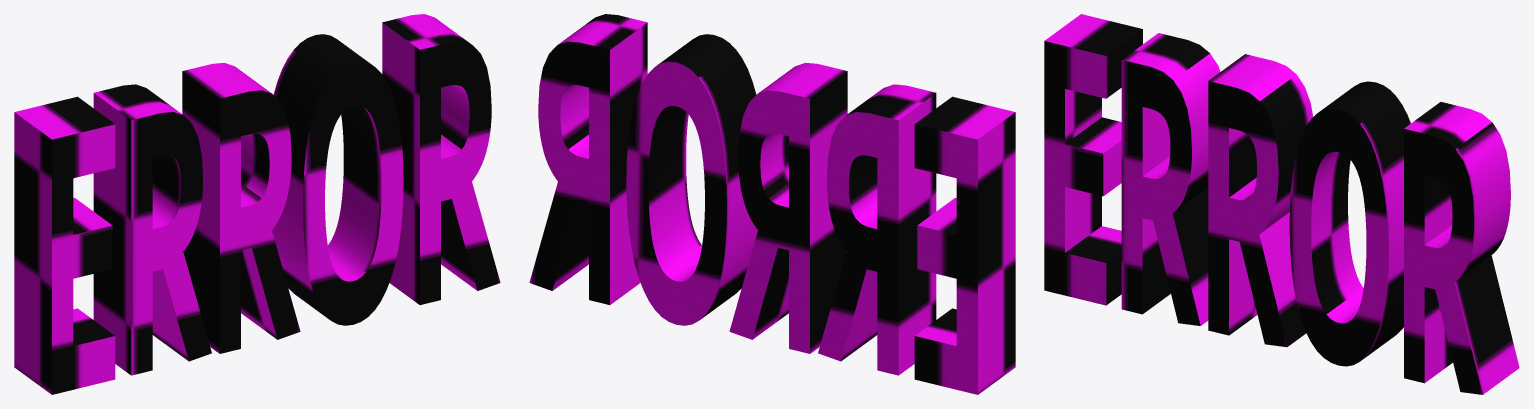
File: error.dae
The picture shows the model from 3 angles, left to right: view 1: azimuth 30°, elevation 25°; view 2: azimuth 150°, elevation 25°; view 3: azimuth 330°, elevation 25°; orthographic projection. The views are drawn at different scales.
Parts seen in each view (by area): view 1: obj_0; view 2: obj_0; view 3: obj_0.
Boxes of the visible parts, x1,y1,x2,y2 form: obj_0: (14,14,500,394); obj_0: (529,14,1015,394); obj_0: (1044,14,1519,394).
Bounding box in the file's own units: 36.47 × 5.3 × 20.38.
Materials: 1 (1 with a texture image).
